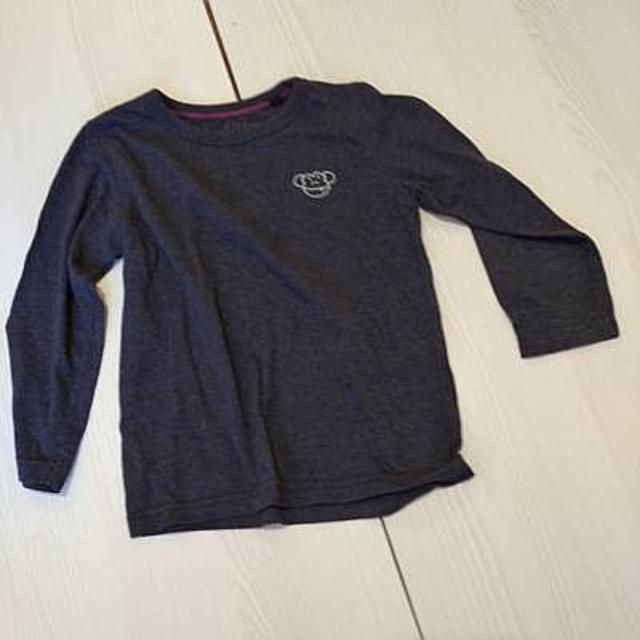SHIRT: (3, 72, 640, 548)
